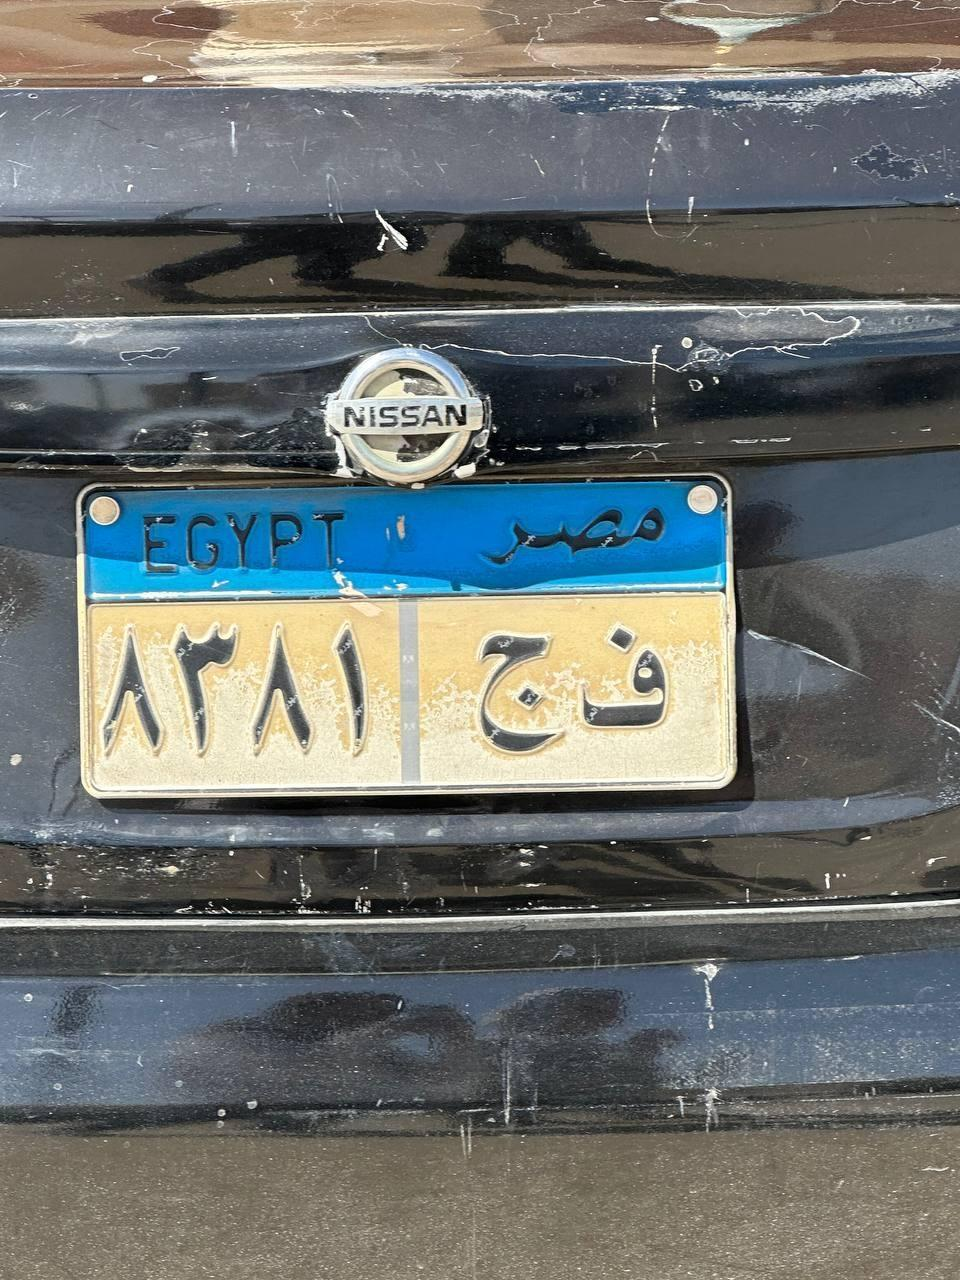1: (331, 621, 394, 757)
3: (163, 620, 239, 758)
8: (92, 624, 164, 760), (246, 627, 318, 749)
F: (578, 630, 682, 728)
License Plate: (73, 469, 742, 802)
geem: (468, 626, 571, 759)
